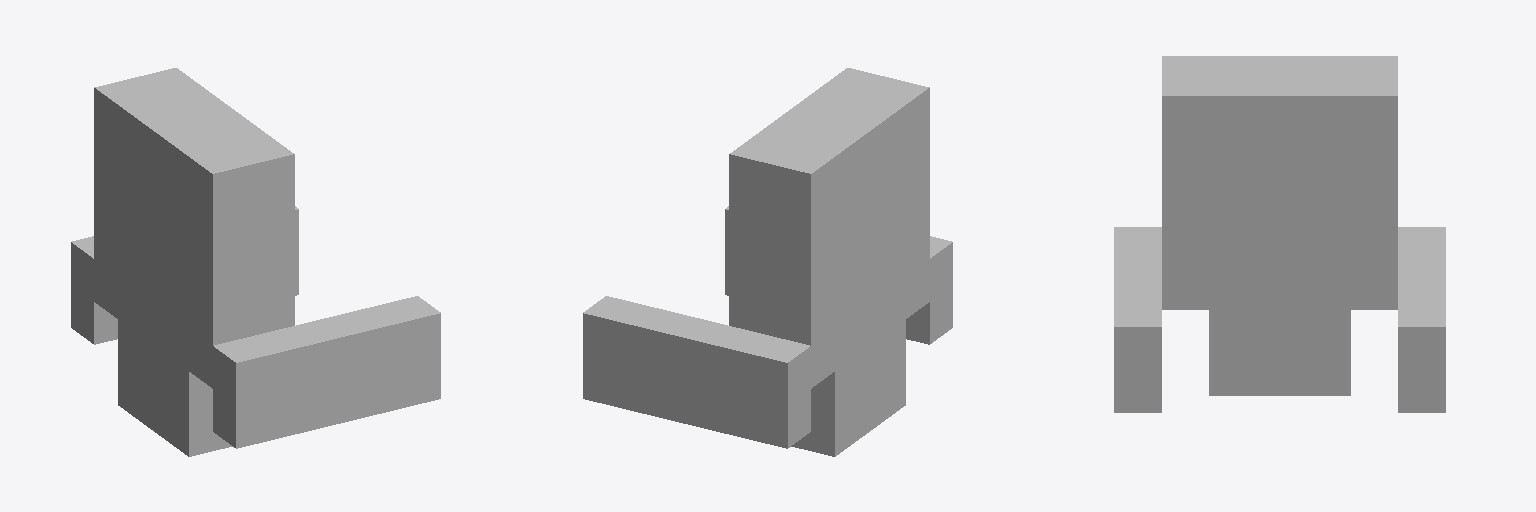
Rendered from player_torso_s-05.obj.
3 views of the same model, side by side, from view 1: azimuth 30°, elevation 25°; view 2: azimuth 150°, elevation 25°; view 3: azimuth 270°, elevation 25° (orthographic).
Size of the model in its own units: 5 by 7 by 7.